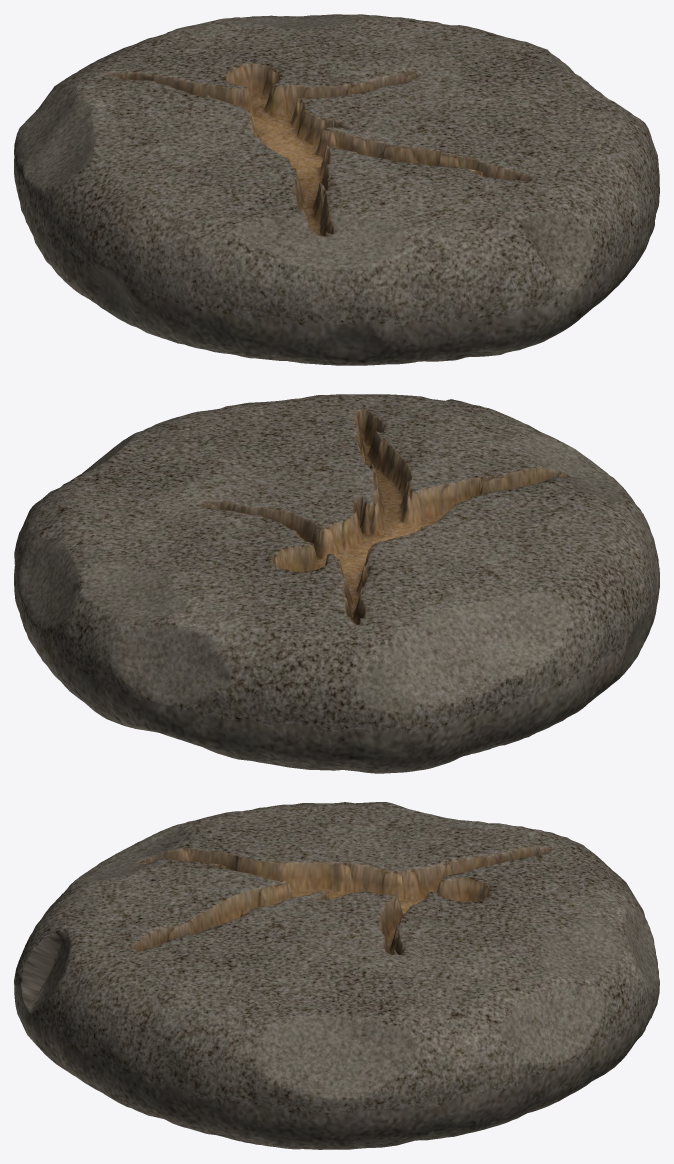
File: opmet-coin_dancer.glb
3 renders of one model, top to bottom at view 1: azimuth 30°, elevation 25°; view 2: azimuth 150°, elevation 25°; view 3: azimuth 270°, elevation 25°, orthographic. The views are drawn at different scales.
Visible parts, largest first — view 1: basalt; view 2: basalt; view 3: basalt.
Part boxes in pixels (left/top/right/bottom): basalt: left=14, top=14, right=659, bottom=365; basalt: left=14, top=394, right=659, bottom=773; basalt: left=14, top=802, right=659, bottom=1149.
Bounding box in the file's own units: 1.98 × 0.5127 × 2.06.
1 material, 1 textured.
